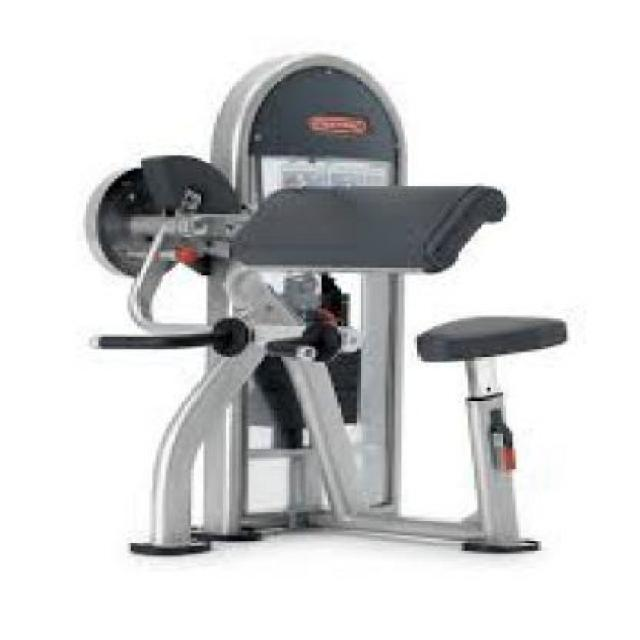arm curl machine: (86, 52, 566, 560)
